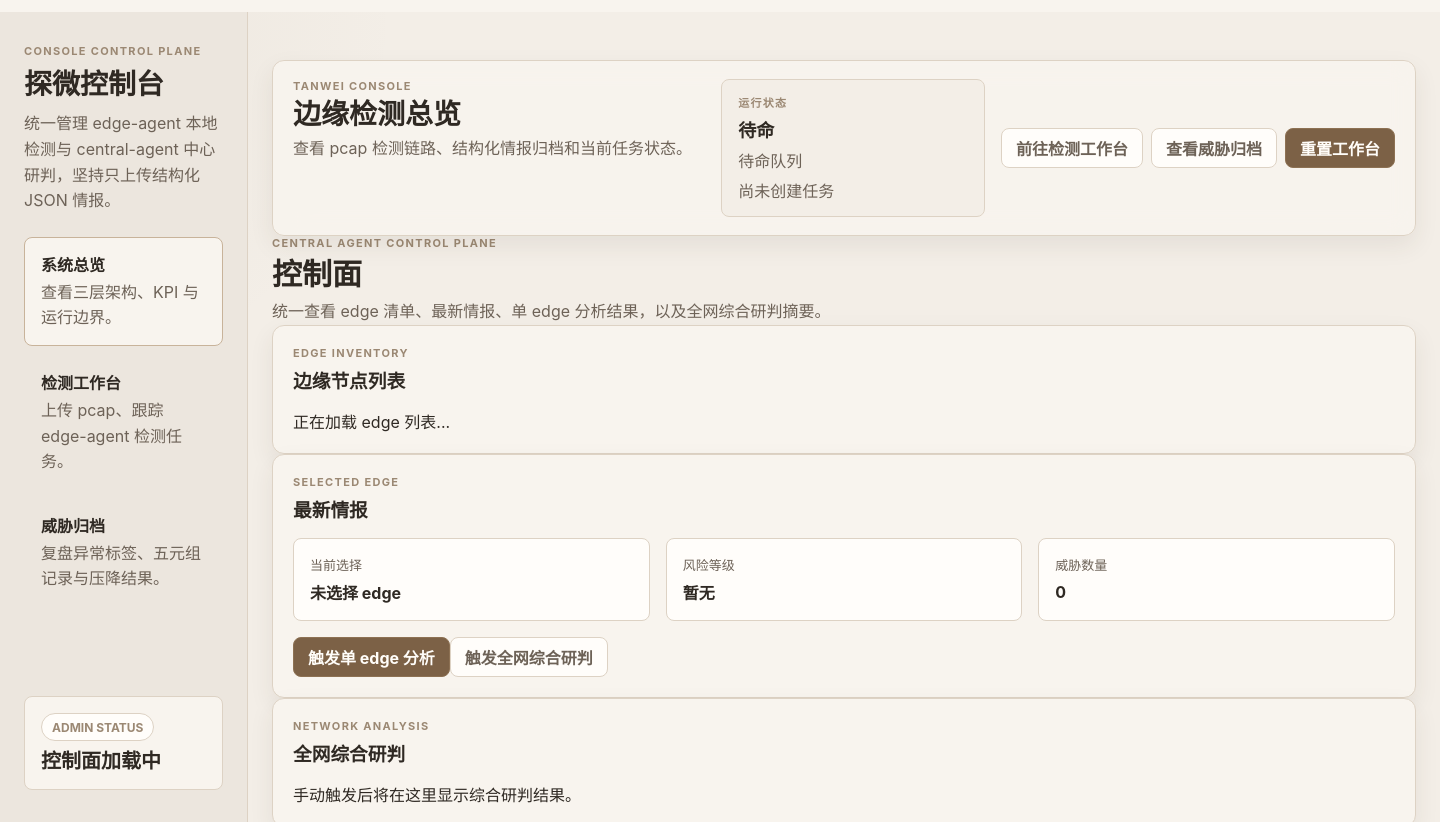
Test: App › shows the overview section by default and allows switching shell sections
The image size is (1440, 822).
Check: the navigation bar named "主导航" is shown, box [24,238,223,672]
Check: the button "系统总览 查看三层架构、KPI 与运行边界。" is shown, box [24,237,223,346]
What coordinates should you click on to do the following:
click the button "检测工作台 上传 pcap、跟踪 edge-agent 检测任务。"
I would click on:
 (124, 422)
Its box is [24,355,223,490].
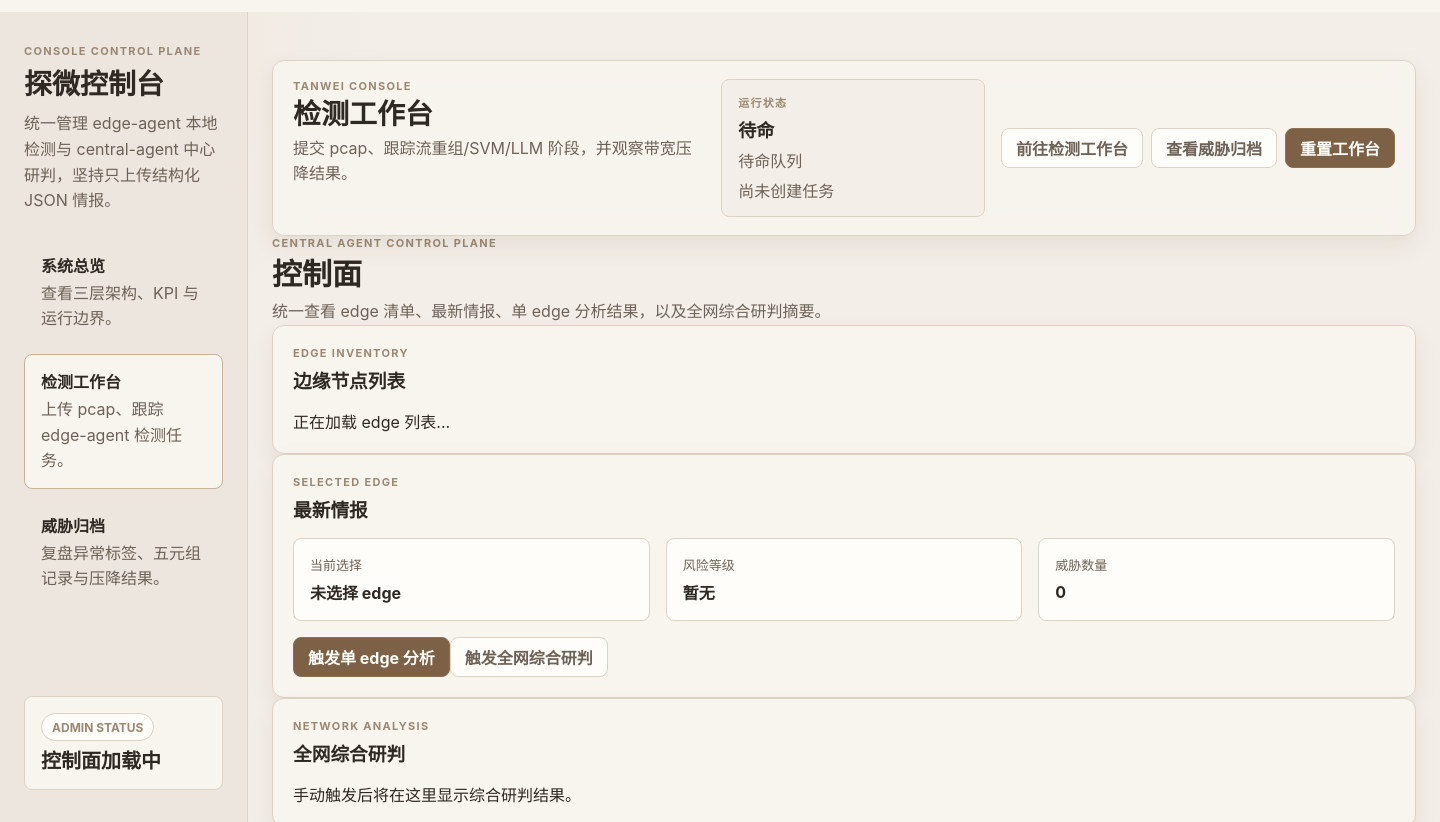
What coordinates should you click on to do the following:
click the button "威胁归档 复盘异常标签、五元组记录与压降结果。"
I would click on:
 (124, 552)
Its box is [24,498,223,607].
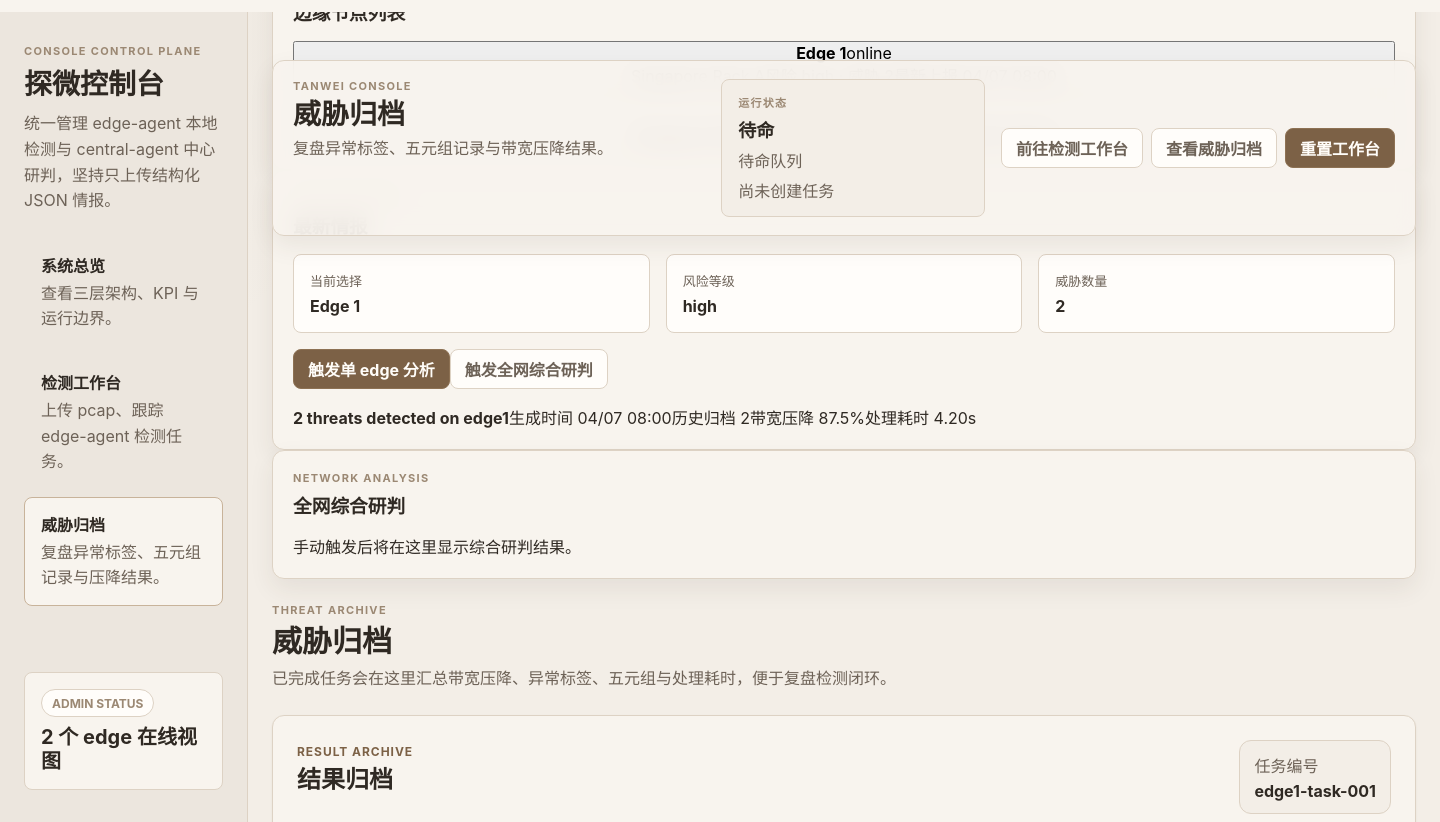
Check: the heading "结果归档" is shown, box [297,765,393,794]
